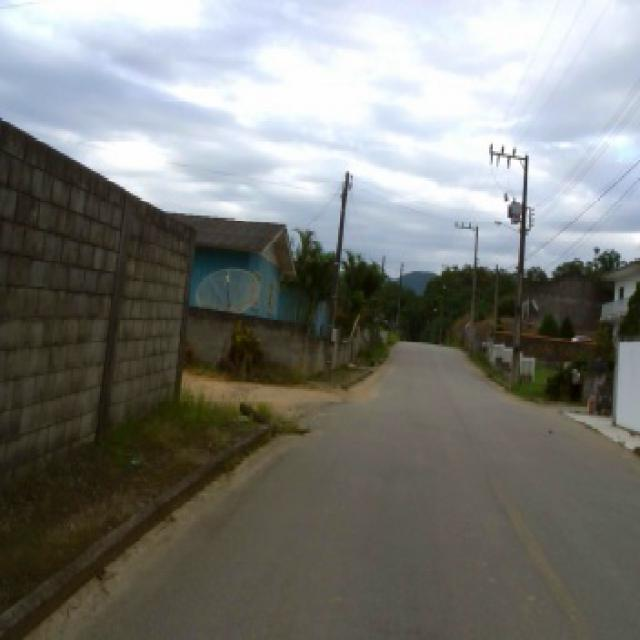Poth-hole: (290, 426, 312, 434)
